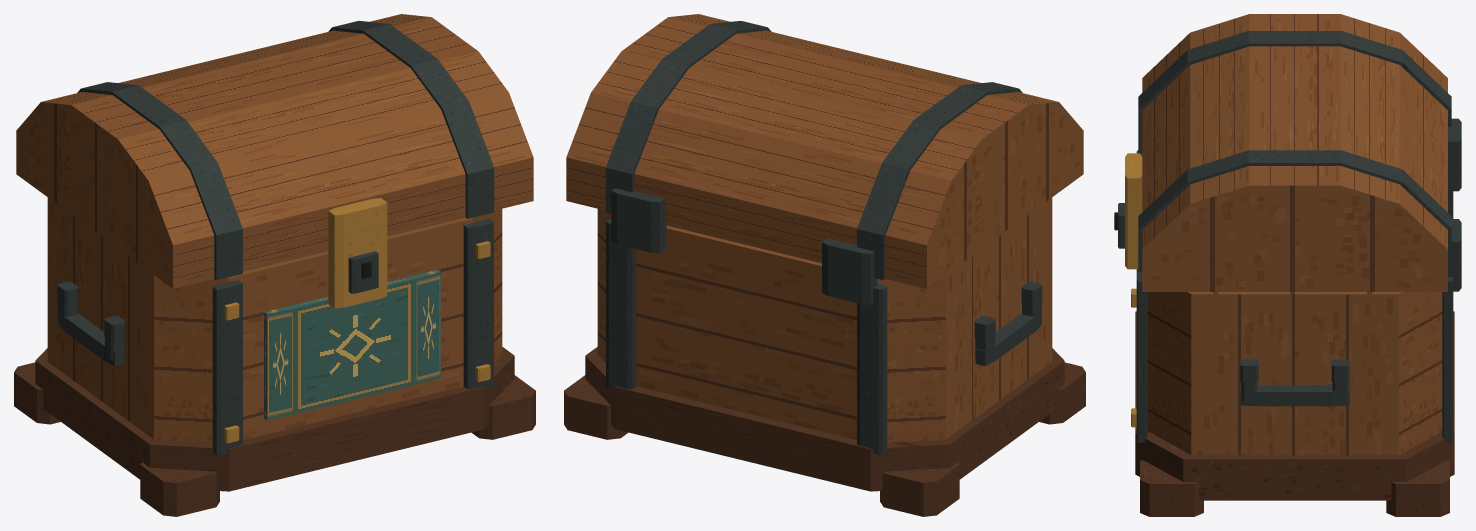
File: chest.glb
3 renders of one model, left to right at view 1: azimuth 30°, elevation 25°; view 2: azimuth 150°, elevation 25°; view 3: azimuth 270°, elevation 25°, orthographic. The views are drawn at different scales.
Visible parts, largest first — view 1: Chest; view 2: Chest; view 3: Chest.
Part boxes in pixels (x1,y1,x2,y2): Chest: (14,14,535,516); Chest: (564,14,1085,516); Chest: (1114,14,1461,516).
Size of the model in its own units: 0.941 by 0.8016 by 0.761.
1 material, 1 textured.
